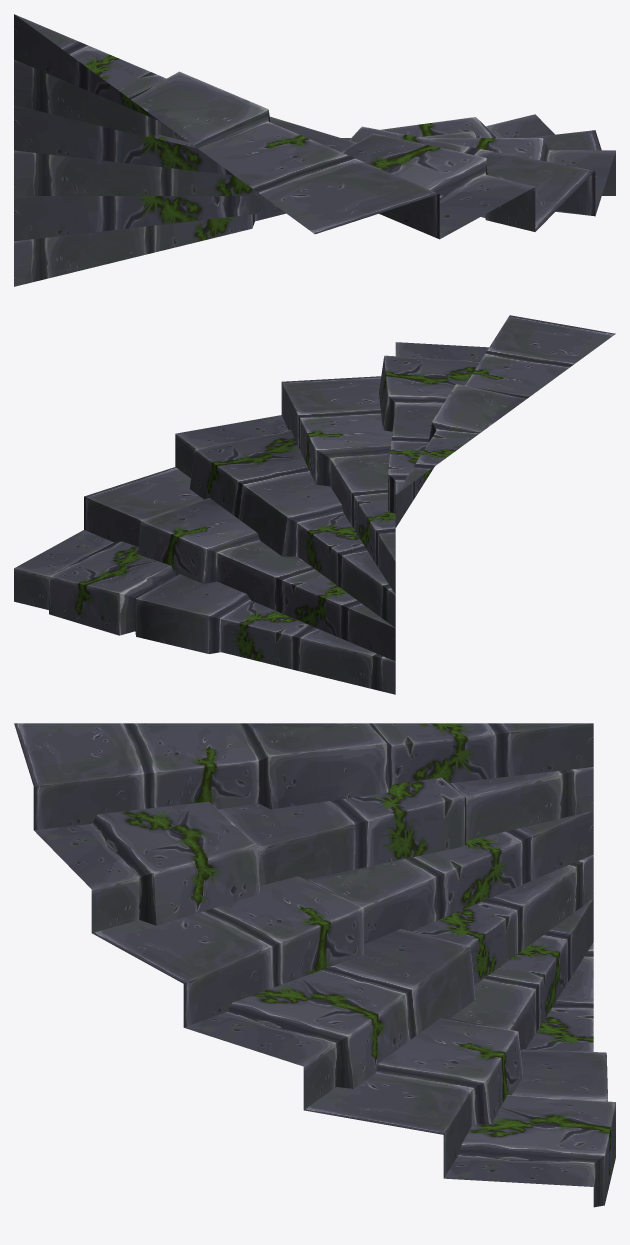
Rendered from MOD_Stairs_01_E_med_NW.fbx.
3 renders of one model, top to bottom at view 1: azimuth 30°, elevation 25°; view 2: azimuth 150°, elevation 25°; view 3: azimuth 270°, elevation 25°, orthographic. The views are drawn at different scales.
Visible parts, largest first — view 1: MOD_Stairs_01_E_med_NW; view 2: MOD_Stairs_01_E_med_NW; view 3: MOD_Stairs_01_E_med_NW.
Boxes of the visible parts, x1,y1,x2,y2 form: MOD_Stairs_01_E_med_NW: (14,14,615,286); MOD_Stairs_01_E_med_NW: (14,315,615,694); MOD_Stairs_01_E_med_NW: (14,723,615,1207).
Size of what is drawn, in the model's own units: 400 by 205 by 415.
